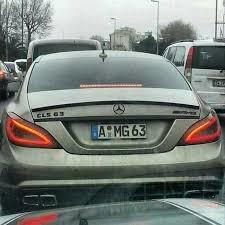license-plates: (92, 124, 147, 140)
